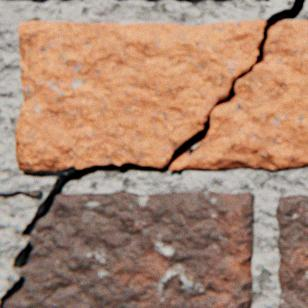brick: (276, 194, 307, 307)
broken_brick: (17, 20, 265, 170), (5, 190, 254, 307), (170, 20, 307, 169), (0, 189, 44, 194)
crack: (0, 0, 306, 307)
